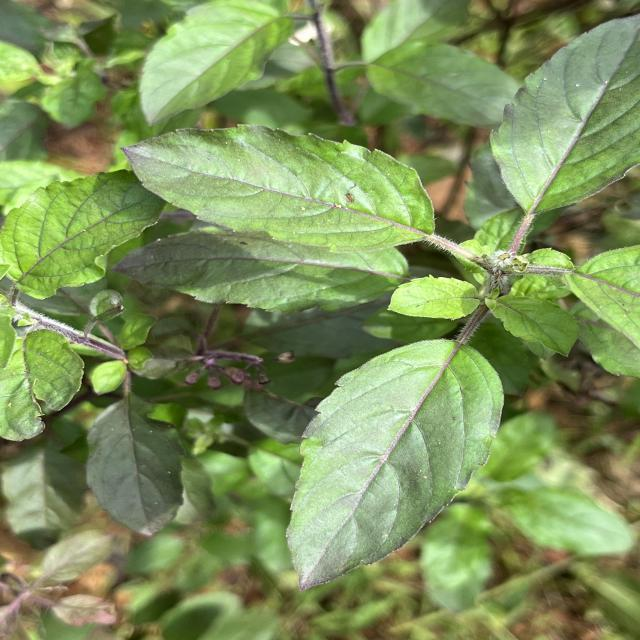Ocimum tenuiflorum: (282, 338, 508, 594), (118, 120, 442, 256)
